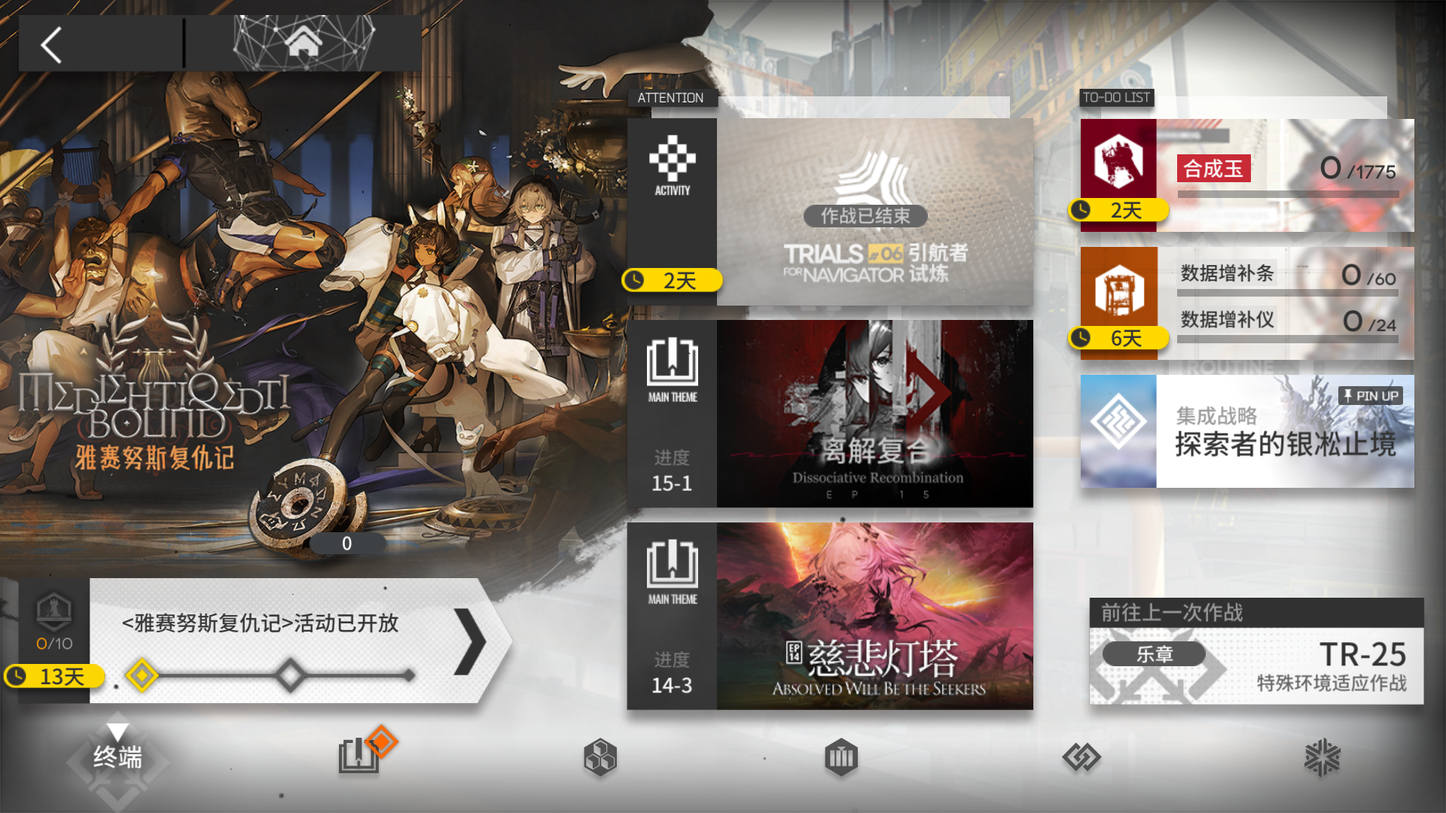Resource_Collection_Button: (533, 709, 679, 800)
Return_Button: (18, 14, 131, 67)
